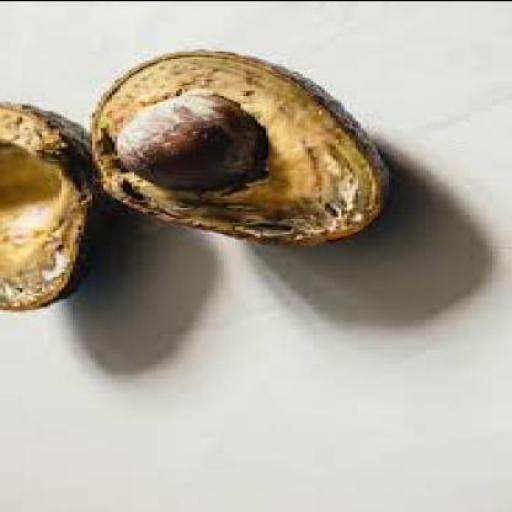biodegradable: (90, 50, 397, 250), (0, 103, 112, 314), (109, 96, 266, 192)
